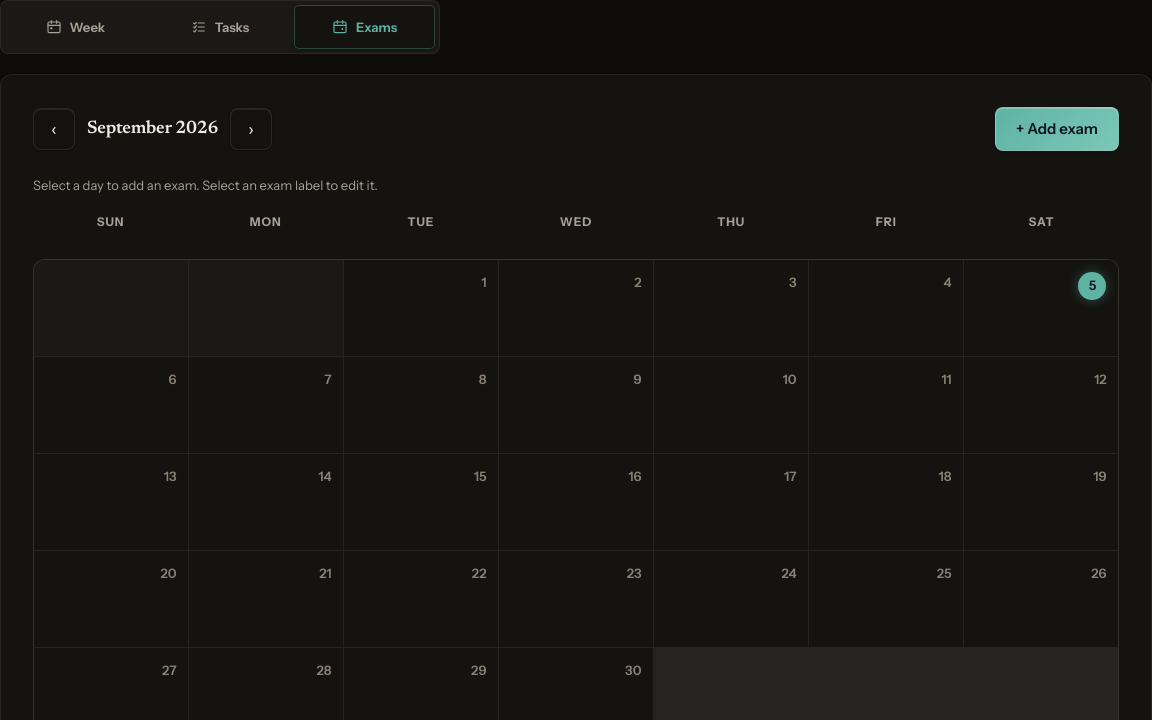
Test: ExamsView › opens a blank create dialog for a day with no exams
The image size is (1152, 720).
Click the button "20".
click(111, 599)  # box [34,551,188,647]
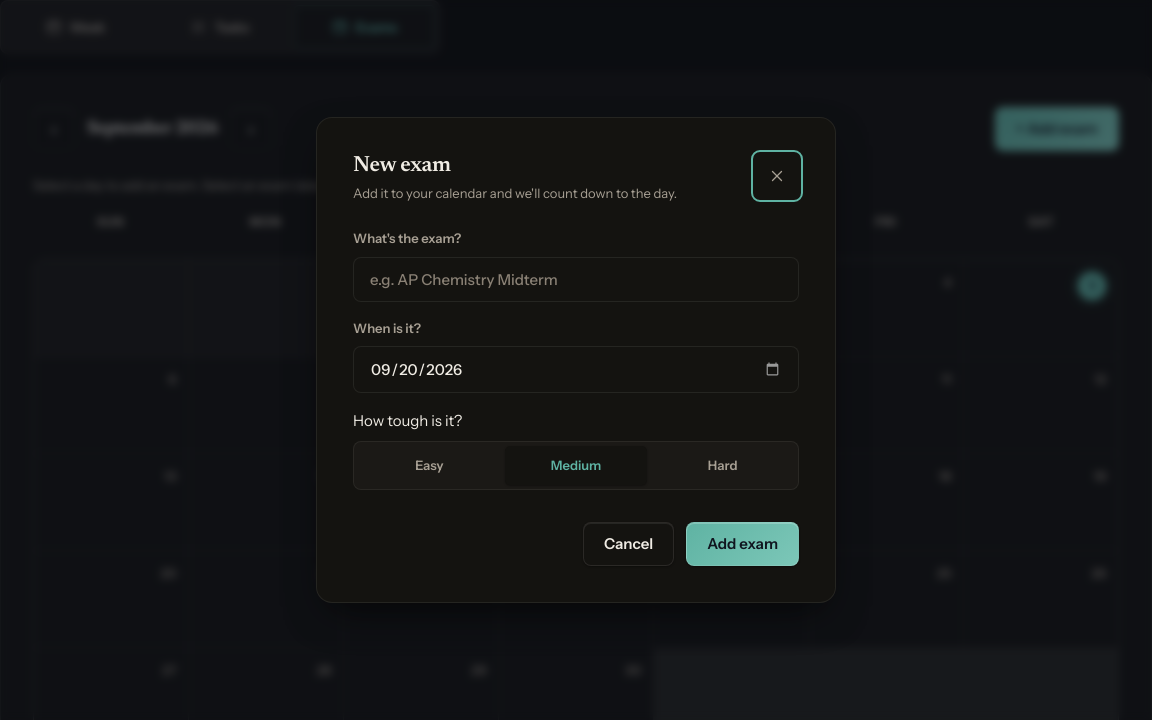
Expected: the heading "New exam" is shown, [353,155,451,177]
